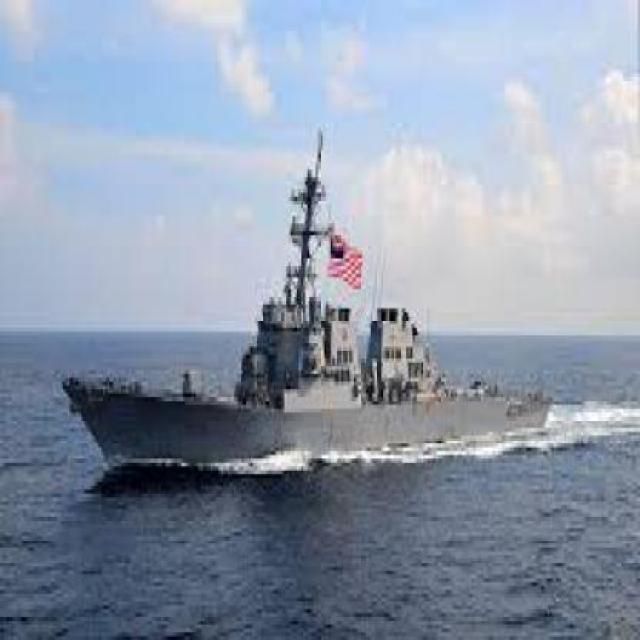warship2: (62, 128, 565, 509)
